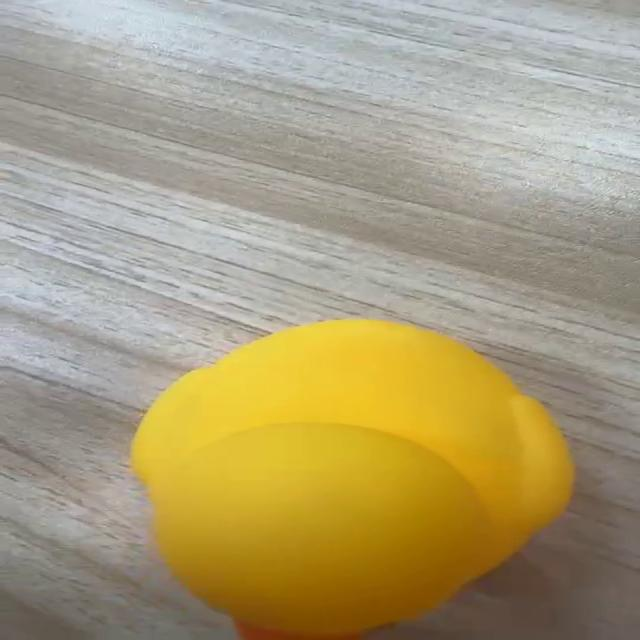yellow_duck: (127, 317, 576, 638)
